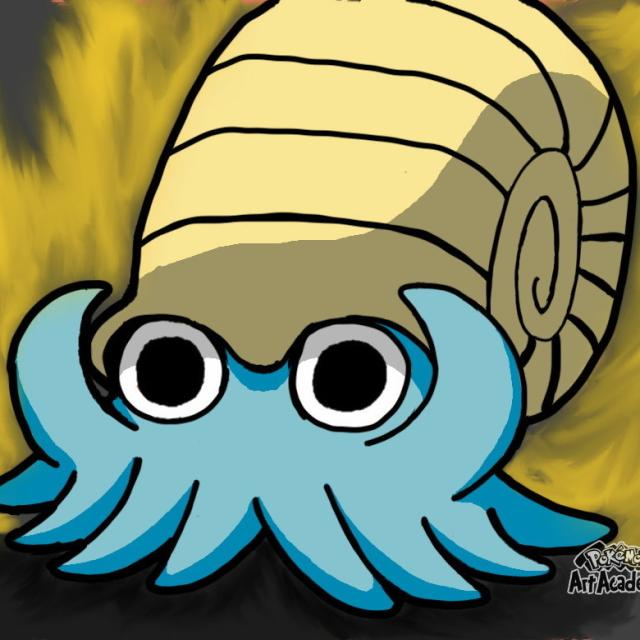Omanyte: (20, 8, 625, 572)
